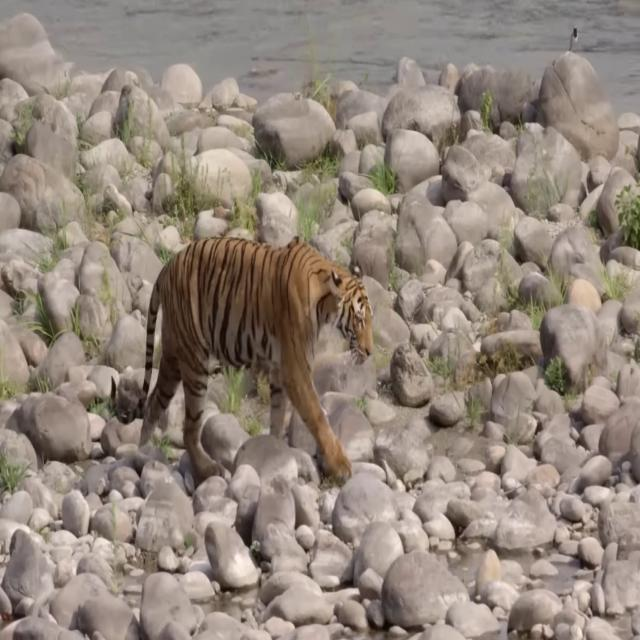tiger: (111, 233, 375, 485)
